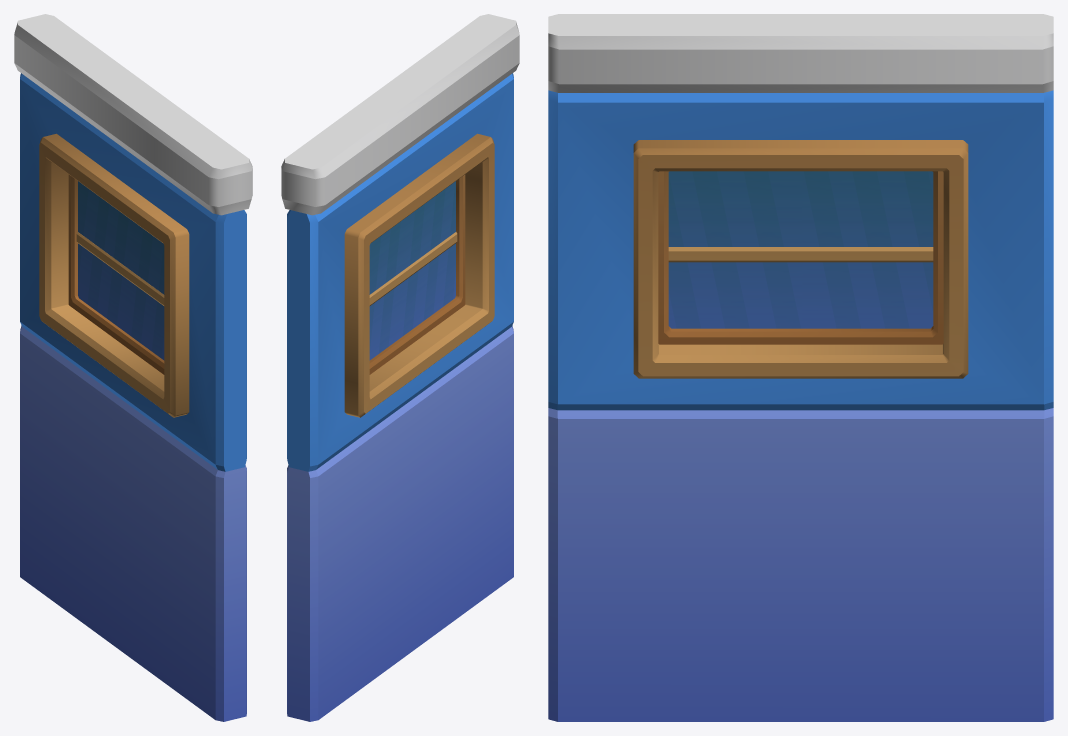
Rendered from Wall_D_6.glb.
The picture shows the model from 3 angles, left to right: view 1: azimuth 30°, elevation 25°; view 2: azimuth 150°, elevation 25°; view 3: azimuth 270°, elevation 25°; orthographic projection. The views are drawn at different scales.
Parts seen in each view (by area): view 1: Wall_D_6; view 2: Wall_D_6; view 3: Wall_D_6.
Boxes of the visible parts, left/top/right/bottom form: Wall_D_6: left=14, top=14, right=252, bottom=721; Wall_D_6: left=281, top=14, right=519, bottom=721; Wall_D_6: left=548, top=14, right=1053, bottom=721.
Size of the model in its own units: 0.3277 by 3 by 2.
Materials: 2 (2 with a texture image).
